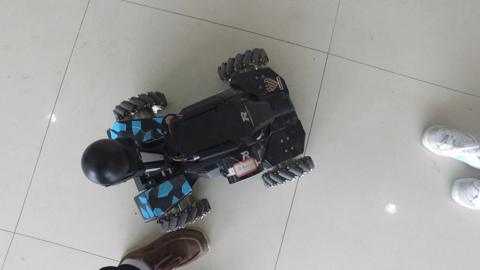chariot: (84, 53, 323, 231)
